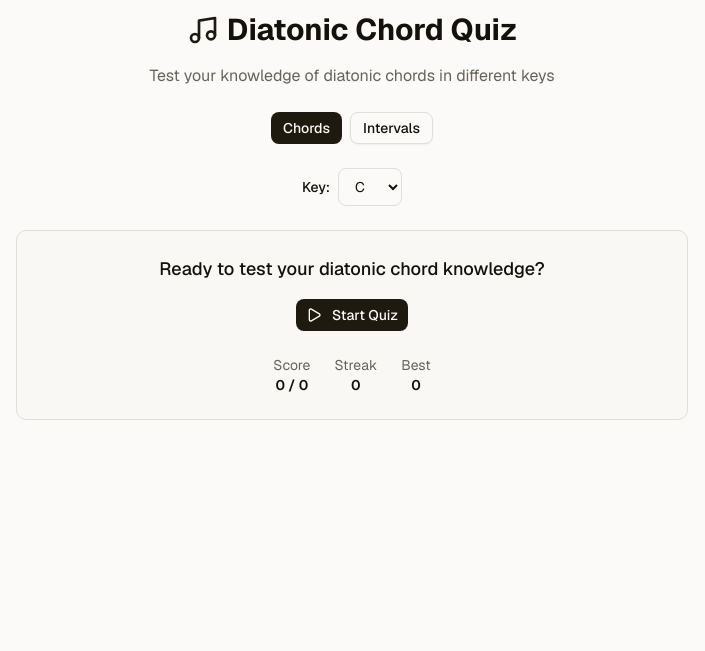
DiatonicQuiz › options are disabled during feedback state
Click the button with test id "start-btn". click: (352, 315)
box: [296, 299, 408, 331]
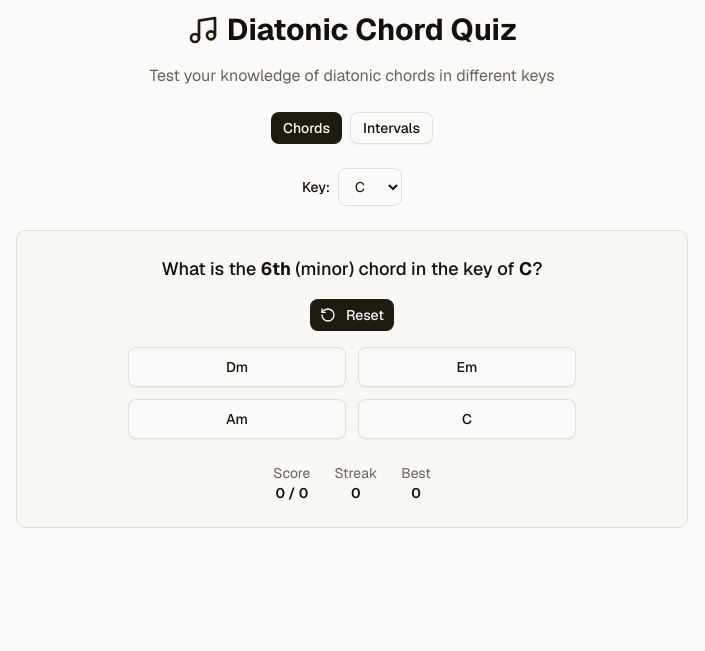
Click the button with test id "quiz-option-0". click: (237, 367)
box: [128, 347, 346, 387]
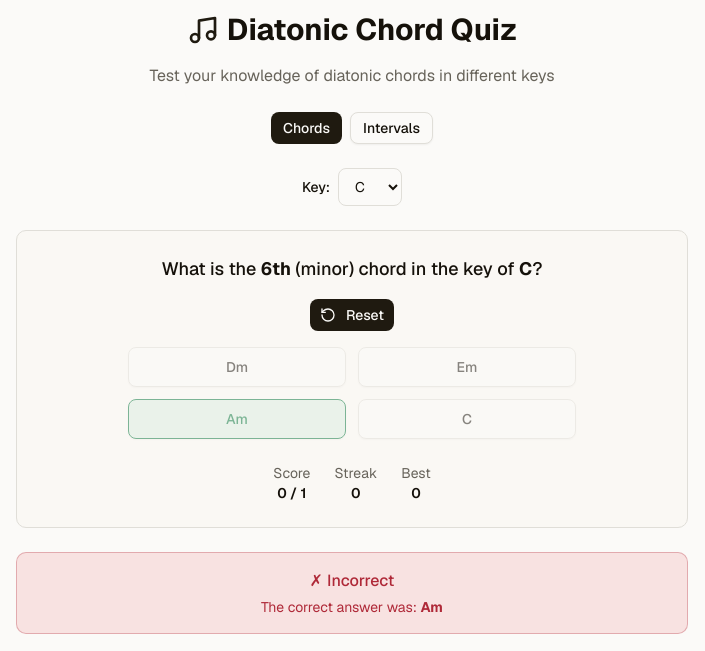
Result: the button with test id "quiz-option-0" is disabled at [128, 347, 346, 387]
Result: the button with test id "quiz-option-1" is disabled at [358, 347, 576, 387]
Result: the button with test id "quiz-option-2" is disabled at [128, 399, 346, 439]
